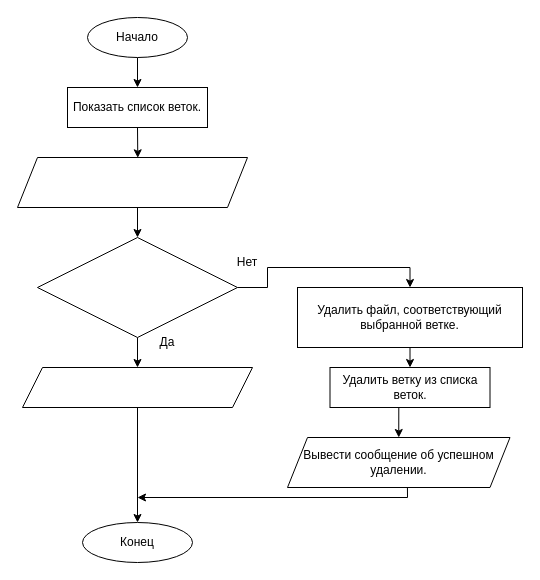
The diagram is 540 pixels wide and 580 high, and some of its shapes have lost their labels. Each missing label, with the centre of its shape:
"Ввести индекс ветки для удаления с клавиатуры." belongs at point 132,182.
"Вывести сообщение об ошибке." belongs at point 137,387.
"Если выбранная для удаления ветка является текущей:" belongs at point 137,287.
